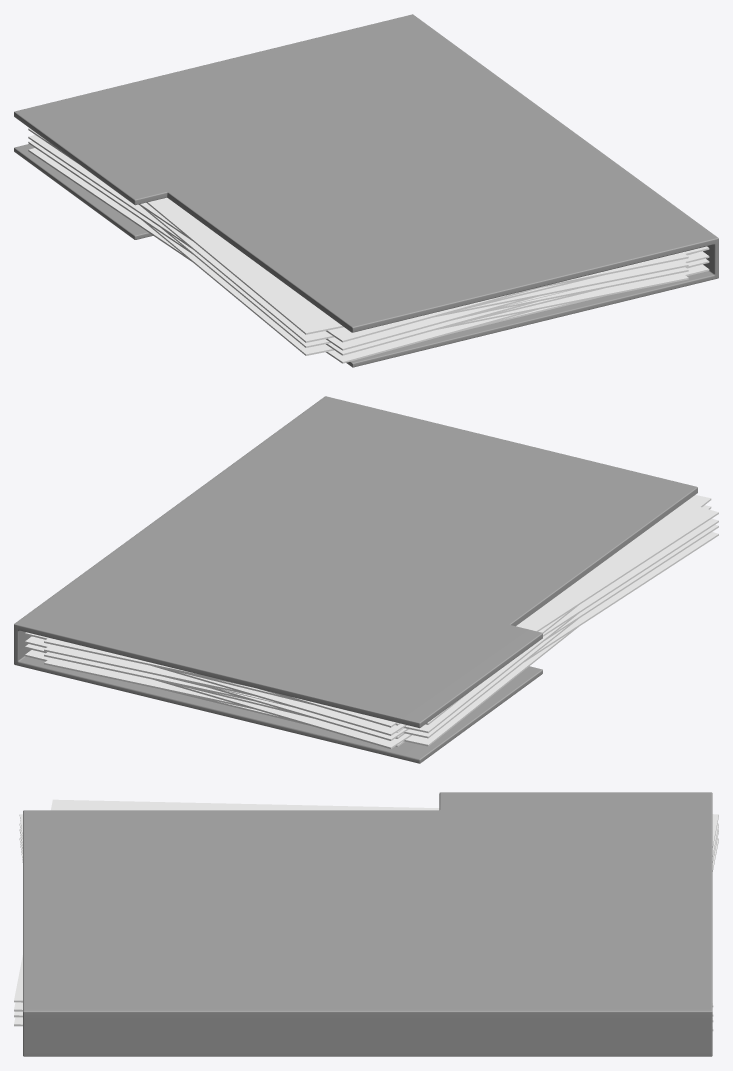
Rendered from Folder.fbx.
3 views of the same model, one above another, from view 1: azimuth 30°, elevation 25°; view 2: azimuth 150°, elevation 25°; view 3: azimuth 270°, elevation 25° (orthographic). The views are drawn at different scales.
Parts seen in each view (by area): view 1: pCube9; view 2: pCube9; view 3: pCube9.
Boxes of the visible parts, <box> form: pCube9: <box>14,14,718,367</box>; pCube9: <box>14,396,718,763</box>; pCube9: <box>14,792,718,1056</box>.
Size of the model in its own units: 37.04 by 3.6 by 50.19.
Materials: 2 (1 with a texture image).
